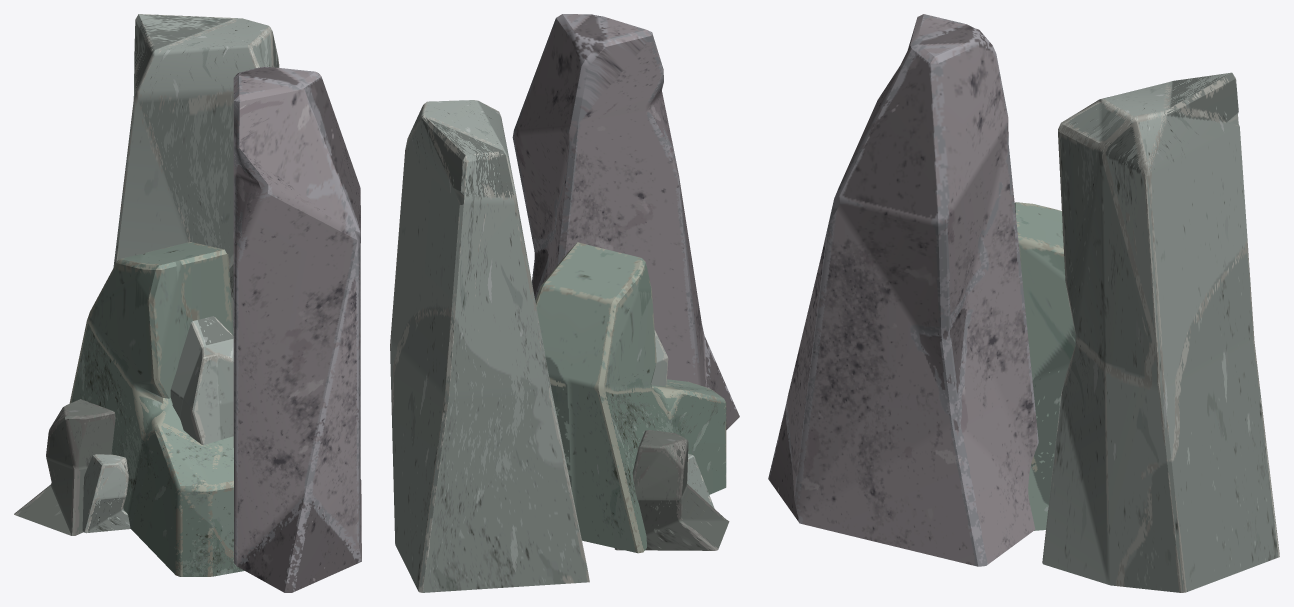
File: Stones_Max_2.fbx
3 renders of one model, left to right at view 1: azimuth 30°, elevation 25°; view 2: azimuth 150°, elevation 25°; view 3: azimuth 270°, elevation 25°, orthographic. The views are drawn at different scales.
Visible parts, largest first — view 1: polySurface1; view 2: polySurface1; view 3: polySurface1.
Boxes of the visible parts, <box> form: polySurface1: <box>14,14,361,592</box>; polySurface1: <box>390,14,739,592</box>; polySurface1: <box>768,14,1279,592</box>.
Size of the model in its own units: 447 by 668 by 611.
